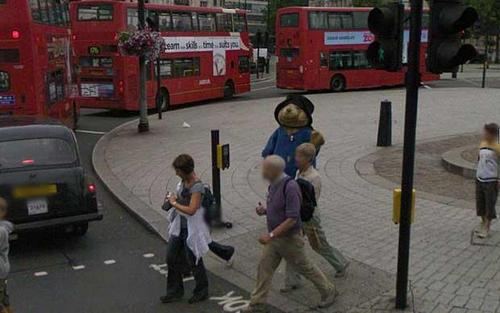people: (254, 157, 326, 305), (291, 145, 352, 273), (161, 155, 213, 302), (476, 123, 500, 235)
